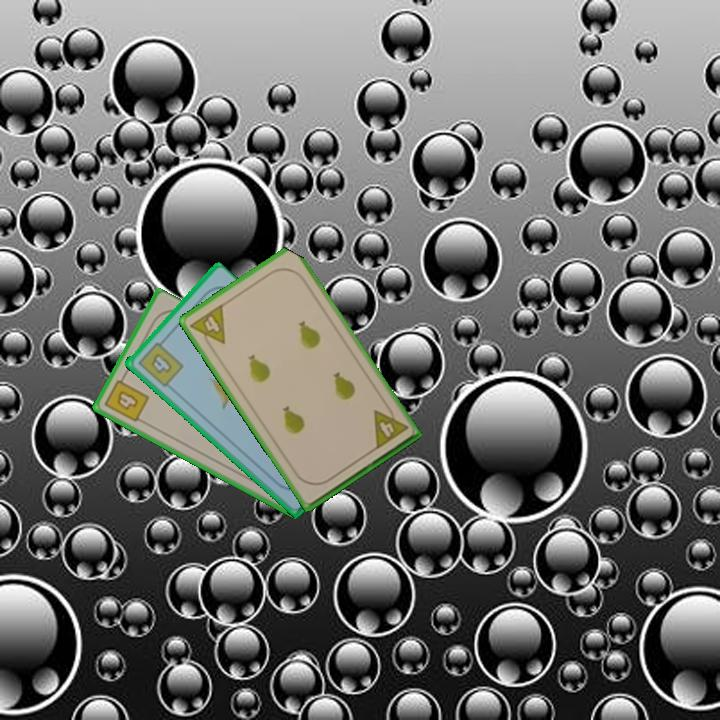4b: (134, 335, 186, 390), (101, 371, 152, 425)
4p: (186, 300, 228, 354), (369, 400, 411, 452)
